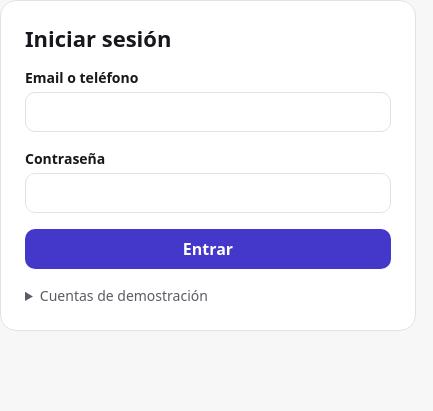
it: LoginForm › muestra el error de credenciales sin revelar si la cuenta existe
This screenshot has width=433, height=411.
Type "a@b.co" into the field labelled "Email o teléfono" at (208, 112), box [25,92,391,132]
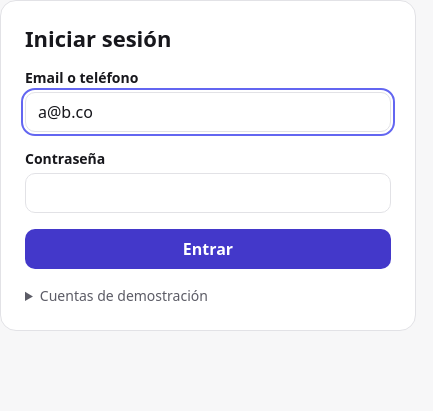
Type "x" into the password field labelled "Contraseña" at (208, 193), box [25,173,391,213]
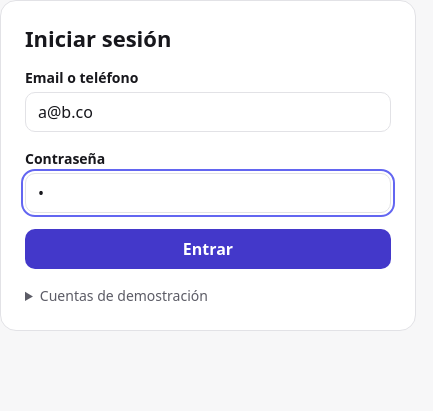
Click the button "Entrar" at (208, 249), box [25,229,391,269]
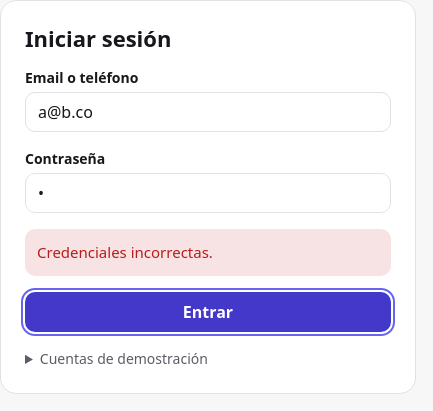
Expected: the message reads "Credenciales incorrectas.", [37,242,213,262]
